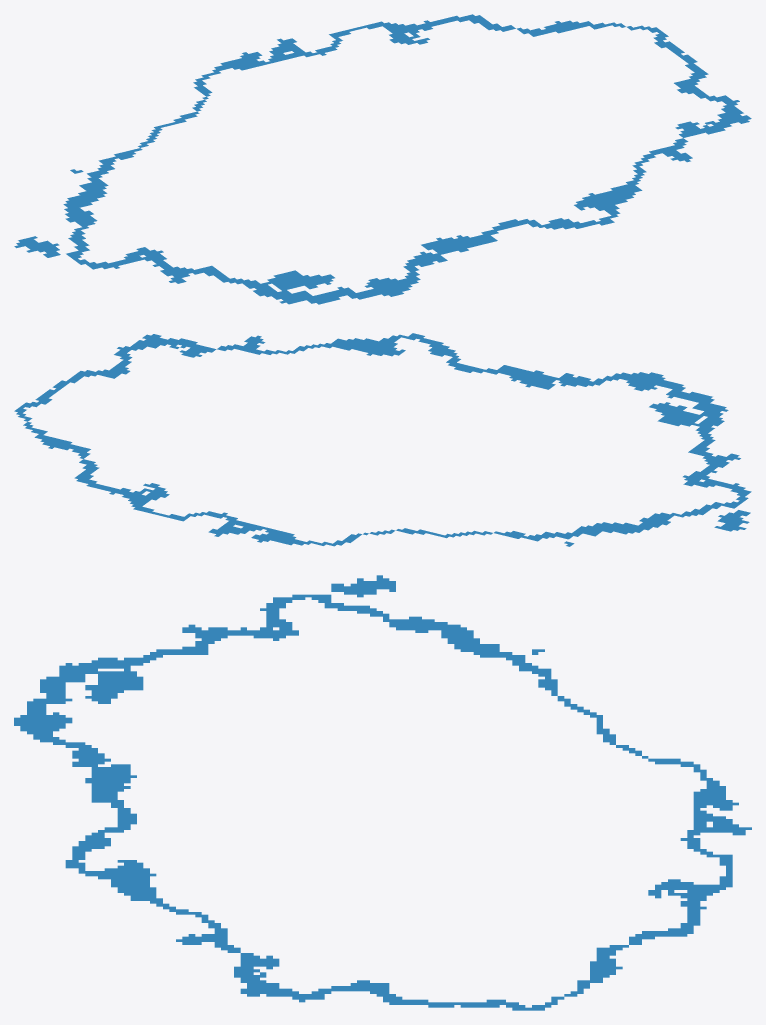
Rendered from Isl-bot6-PlaceForWaterObjects.fbx.
3 views of the same model, one above another, from view 1: azimuth 30°, elevation 25°; view 2: azimuth 150°, elevation 25°; view 3: azimuth 270°, elevation 25° (orthographic). The views are drawn at different scales.
Parts seen in each view (by area): view 1: Isl-bot6-PlaceForWaterObjects; view 2: Isl-bot6-PlaceForWaterObjects; view 3: Isl-bot6-PlaceForWaterObjects.
Part boxes in pixels (<box>): Isl-bot6-PlaceForWaterObjects: <box>14,14,751,304</box>; Isl-bot6-PlaceForWaterObjects: <box>14,333,751,546</box>; Isl-bot6-PlaceForWaterObjects: <box>14,575,751,1010</box>.
Size of the model in its own units: 159 by 0 by 114.
